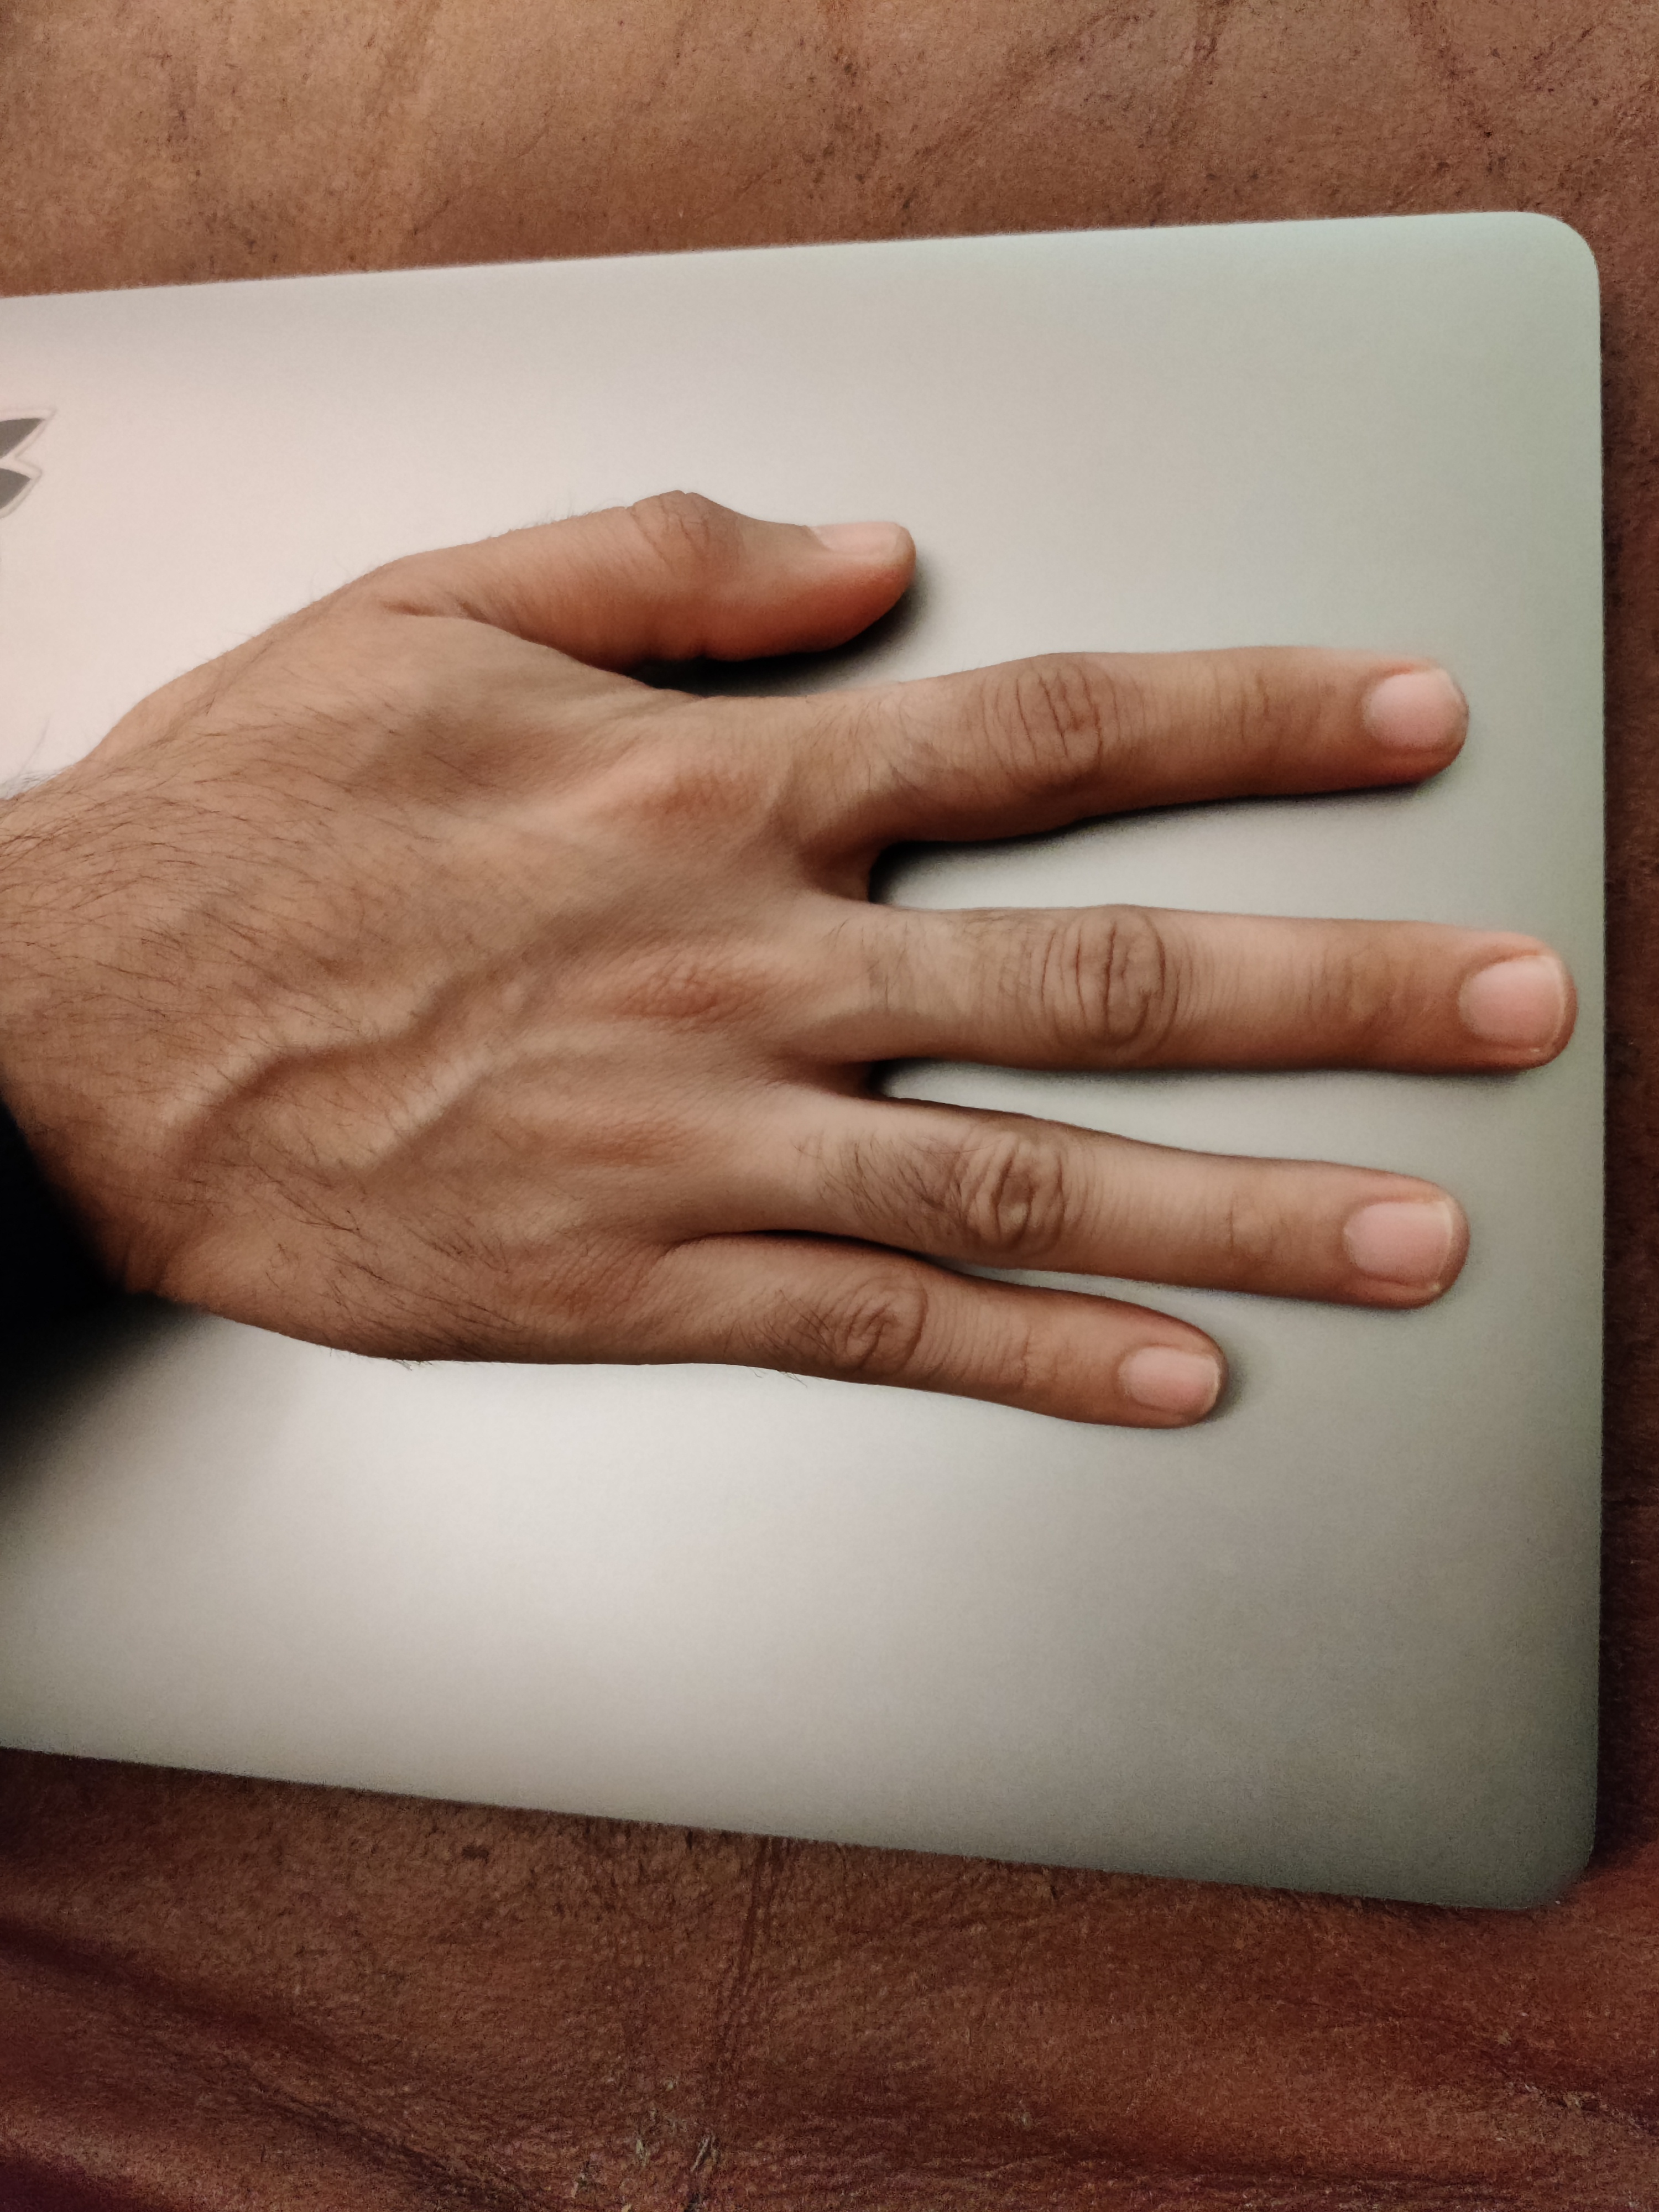left: (98, 441, 1591, 1561)
